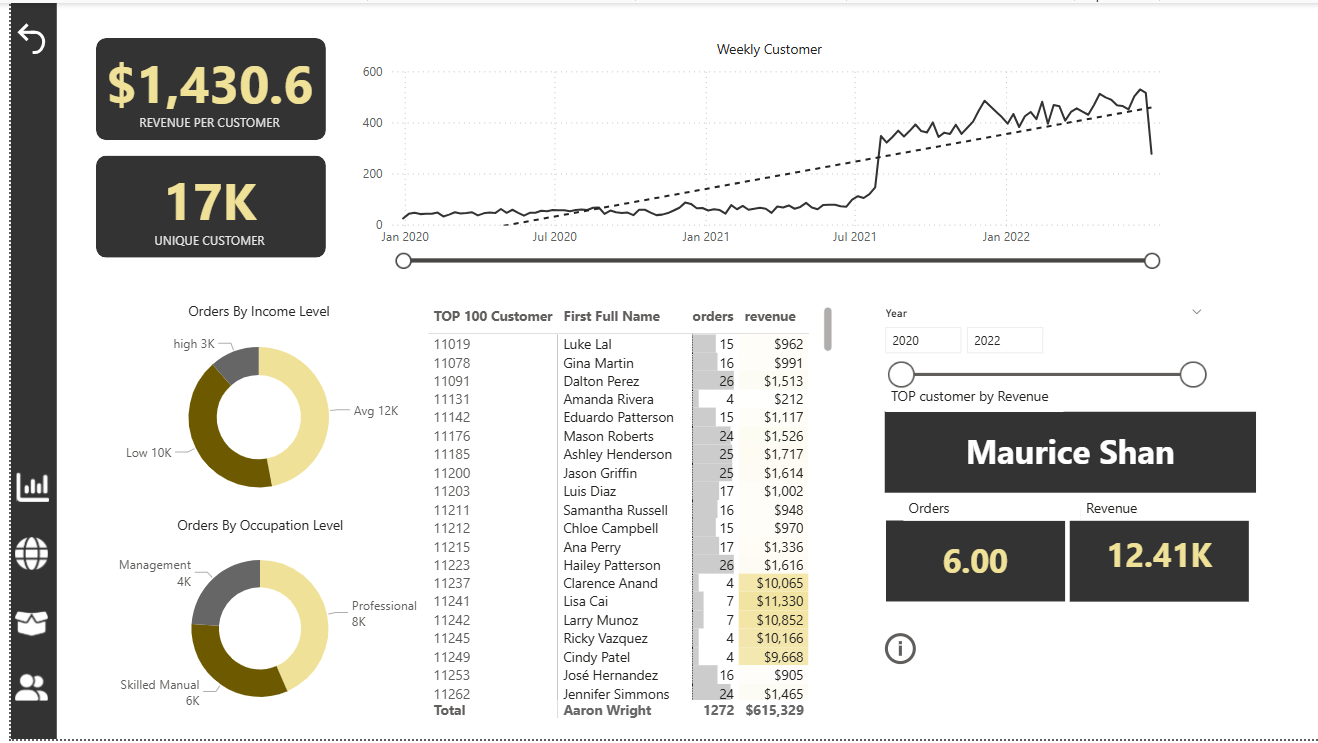

The dashboard page shown, as its layout file describes it:
{"tool":"powerbi","page":{"name":"Customer detail","canvas":[1280,720],"ordinal":3},"visuals":[{"type":"shape","box":[83.8,148.8,225,100],"z":0},{"type":"card","fields":{"Values":["Measures Table.Total costmer"]},"box":[82.5,148.8,225,100],"z":1000},{"type":"shape","title":"Left Nav Bg","box":[0,0,45,720],"z":2000},{"type":"lineChart","title":"Weekly Customer","fields":{"Category":["Calendar Lookup.Start of Year Hierarchy.Start of Week"],"Y":["Measures Table.Total costmer"]},"box":[338.8,35,806.2,227.5],"z":3000},{"type":"shape","box":[83.8,33.8,225,100],"z":4000},{"type":"card","fields":{"Values":["Measures Table.Avg revenue per customer"]},"box":[82.5,33.8,225,100],"z":5000},{"type":"donutChart","title":" Orders By Income Level","fields":{"Y":["Measures Table.Total orders"],"Category":["Customer Lookup.income Level"]},"box":[82.5,292.5,321.2,208.8],"z":6000},{"type":"donutChart","title":" Orders By Occupation Level","fields":{"Y":["Measures Table.Total orders"],"Category":["Customer Lookup.Occupation"]},"box":[83.8,501.2,321.2,203.8],"z":7000},{"type":"pivotTable","fields":{"Values":["Min(Customer Lookup.Full Name)","Measures Table.Total orders","Measures Table.Total revenue"],"Rows":["Customer Lookup.CustomerKey"]},"box":[403.8,292.5,405,412.5],"z":8000},{"type":"card","fields":{"Values":["Measures Table.Full name(customer card)"]},"box":[854.3,400.4,363.2,79.5],"z":9000},{"type":"card","fields":{"Values":["Measures Table.Total Ordeds(customer card)"]},"box":[855.5,506.7,174.9,79.5],"z":10000},{"type":"card","fields":{"Values":["Measures Table.Total Revenue (customer card)"]},"box":[1036.3,495.7,175,90],"z":11000},{"type":"textbox","box":[855.7,371,173.6,29.3],"z":12000},{"type":"textbox","box":[872.6,479.5,173.8,27.5],"z":13000},{"type":"textbox","box":[1046.3,479.5,173.8,27.5],"z":14000},{"type":"slicer","fields":{"Values":["Calendar Lookup.Date.Variation.Date Hierarchy.Year"]},"box":[842.5,292.3,335.1,105.2],"z":15000},{"type":"actionButton","box":[849.9,611.4,242.1,40.4],"z":16000},{"type":"actionButton","box":[0,14.7,100.3,40.4],"z":17000},{"type":"actionButton","box":[0,649.3,45.2,40.4],"z":17001},{"type":"actionButton","box":[0,587,45.2,40.4],"z":17002},{"type":"actionButton","box":[0,518.5,45.2,40.4],"z":17003},{"type":"actionButton","box":[1.2,453.7,45.2,40.4],"z":17004}]}

Visuals, with their boxes on the page's 1280x720 design canvas (x1, y1, x2, y2). These are canvas units, not pixel positions in the 1318x743 screenshot, which may show the page scaled, cropped or inside an application window:
shape: select_region(84, 149, 309, 249)
card - Measures Table.Total costmer: select_region(82, 149, 308, 249)
"Left Nav Bg" shape: select_region(0, 0, 45, 720)
"Weekly Customer" lineChart: select_region(339, 35, 1145, 262)
shape: select_region(84, 34, 309, 134)
card - Measures Table.Avg revenue per customer: select_region(82, 34, 308, 134)
" Orders By Income Level" donutChart: select_region(82, 292, 404, 501)
" Orders By Occupation Level" donutChart: select_region(84, 501, 405, 705)
pivotTable - Min(Customer Lookup.Full Name) x Measures Table.Total orders: select_region(404, 292, 809, 705)
card - Measures Table.Full name(customer card): select_region(854, 400, 1218, 480)
card - Measures Table.Total Ordeds(customer card): select_region(856, 507, 1030, 586)
card - Measures Table.Total Revenue (customer card): select_region(1036, 496, 1211, 586)
textbox: select_region(856, 371, 1029, 400)
textbox: select_region(873, 480, 1046, 507)
textbox: select_region(1046, 480, 1220, 507)
slicer - Calendar Lookup.Date.Variation.Date Hierarchy.Year: select_region(842, 292, 1178, 398)
actionButton: select_region(850, 611, 1092, 652)
actionButton: select_region(0, 15, 100, 55)
actionButton: select_region(0, 649, 45, 690)
actionButton: select_region(0, 587, 45, 627)
actionButton: select_region(0, 518, 45, 559)
actionButton: select_region(1, 454, 46, 494)
